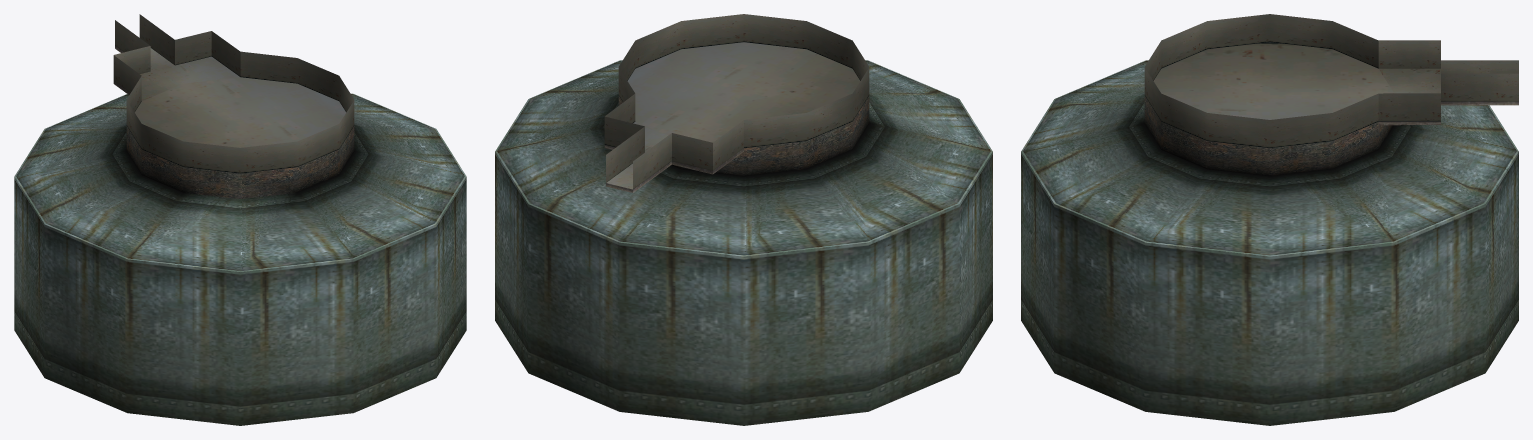
File: M10_Z02Base_26_Tank.glb
3 renders of one model, left to right at view 1: azimuth 30°, elevation 25°; view 2: azimuth 150°, elevation 25°; view 3: azimuth 270°, elevation 25°, orthographic. The views are drawn at different scales.
Visible parts, largest first — view 1: M10_Z02BASE_26_TANK; view 2: M10_Z02BASE_26_TANK; view 3: M10_Z02BASE_26_TANK.
Boxes of the visible parts, x1,y1,x2,y2 form: M10_Z02BASE_26_TANK: (14, 14, 466, 425); M10_Z02BASE_26_TANK: (495, 14, 992, 425); M10_Z02BASE_26_TANK: (1021, 14, 1518, 425).
Bounding box in the file's own units: 16 × 9 × 16.
Materials: 4 (4 with a texture image).
